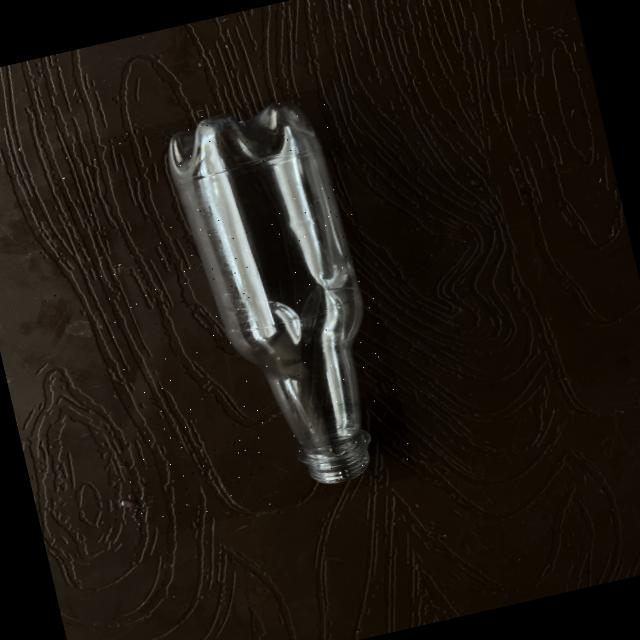PET_ClearBottle: (51, 85, 417, 538)
